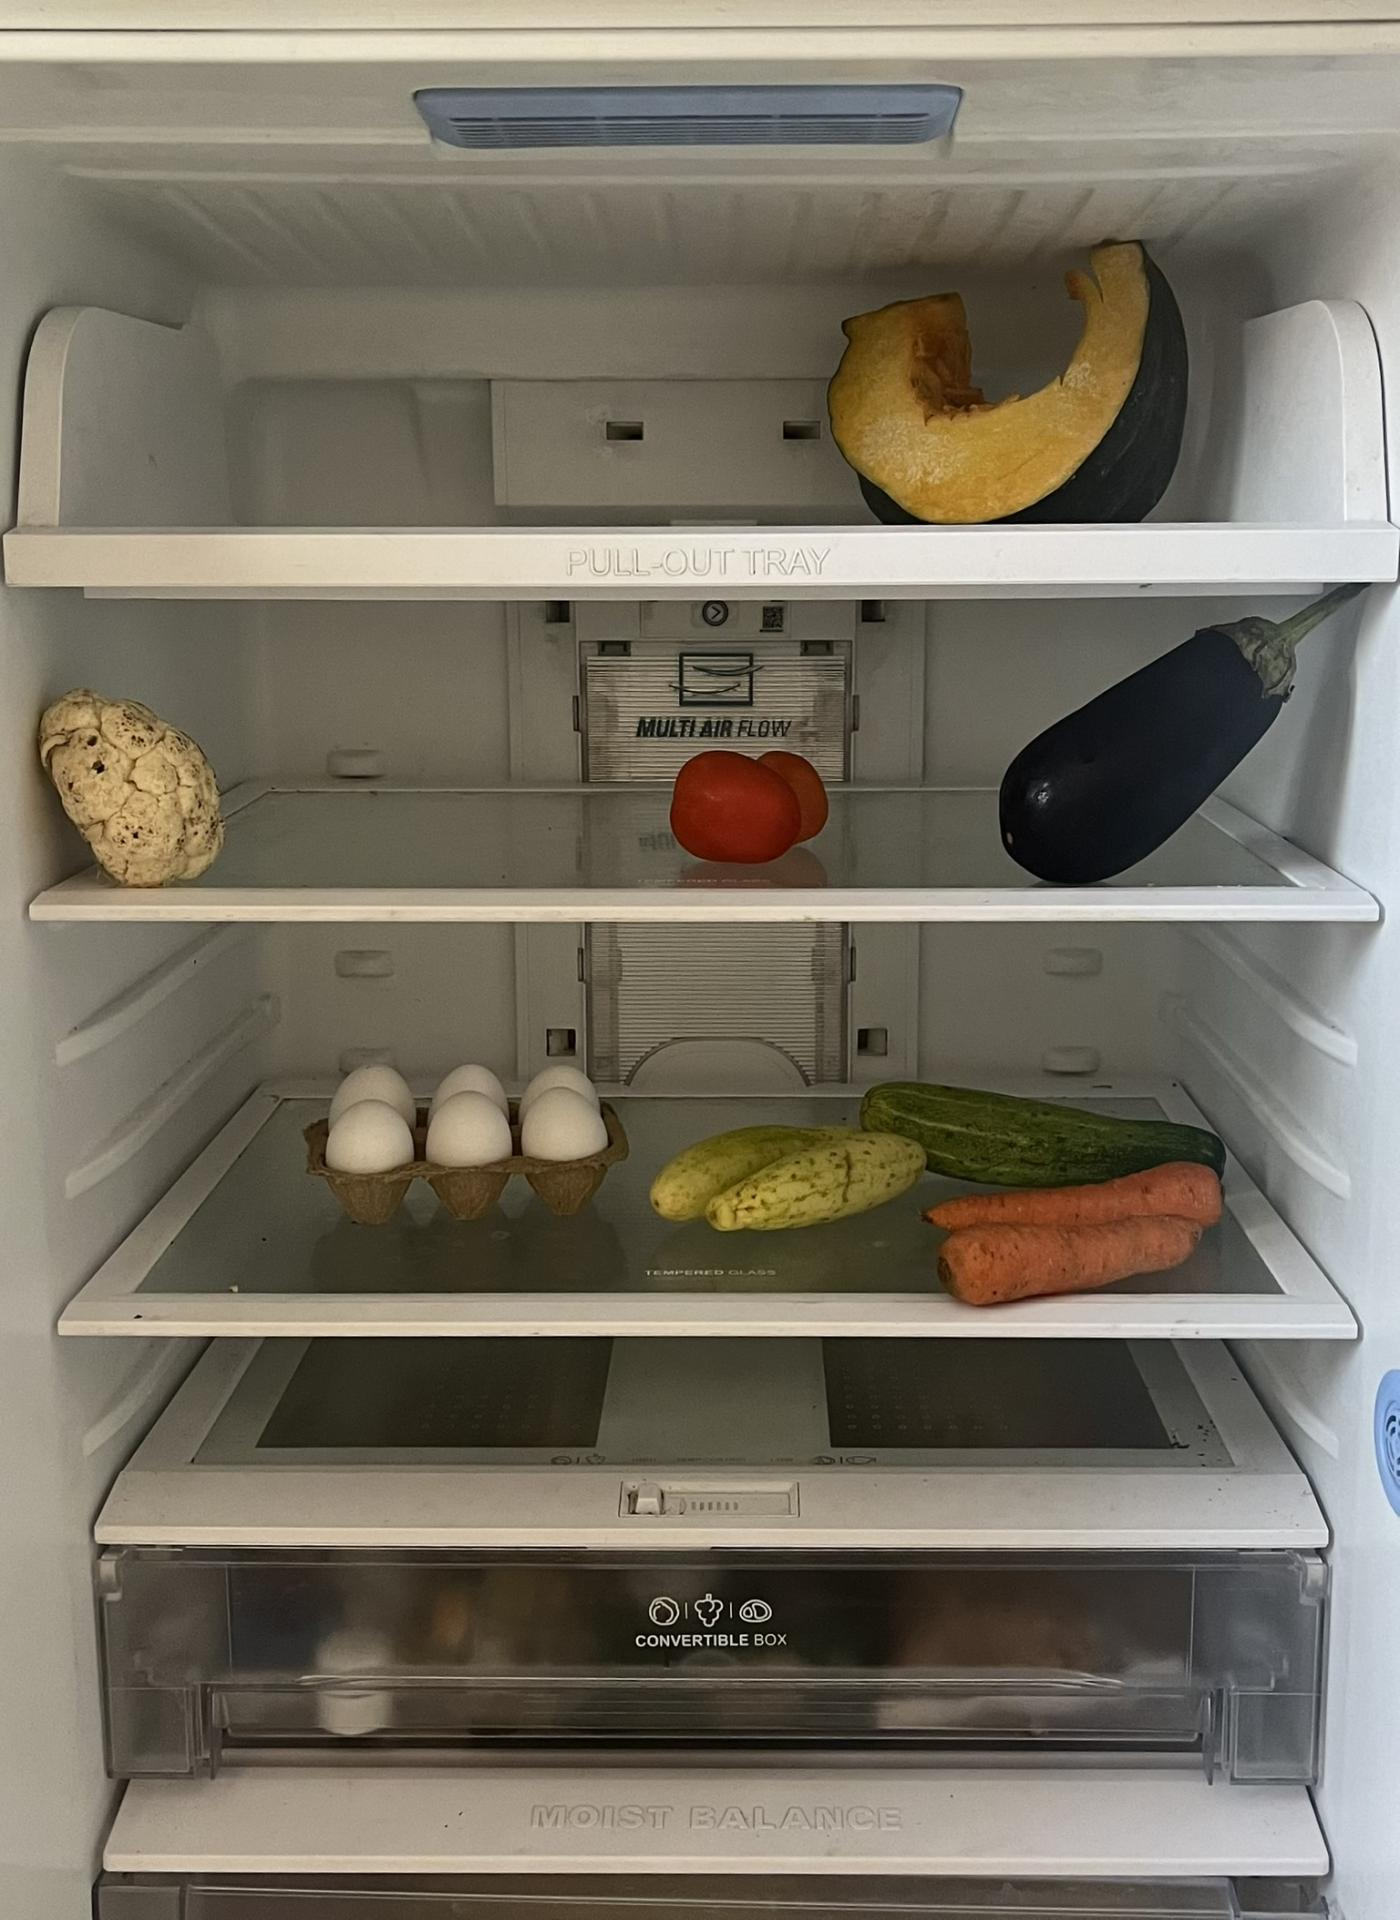brinjal: (984, 617, 1346, 882)
carrots: (932, 1166, 1224, 1300)
cauliflower: (42, 687, 225, 878)
cucumber: (853, 1075, 1242, 1178), (644, 1112, 918, 1227)
egg: (332, 1073, 614, 1234)
pumpkin: (827, 236, 1197, 525)
tomato: (666, 742, 832, 865)
